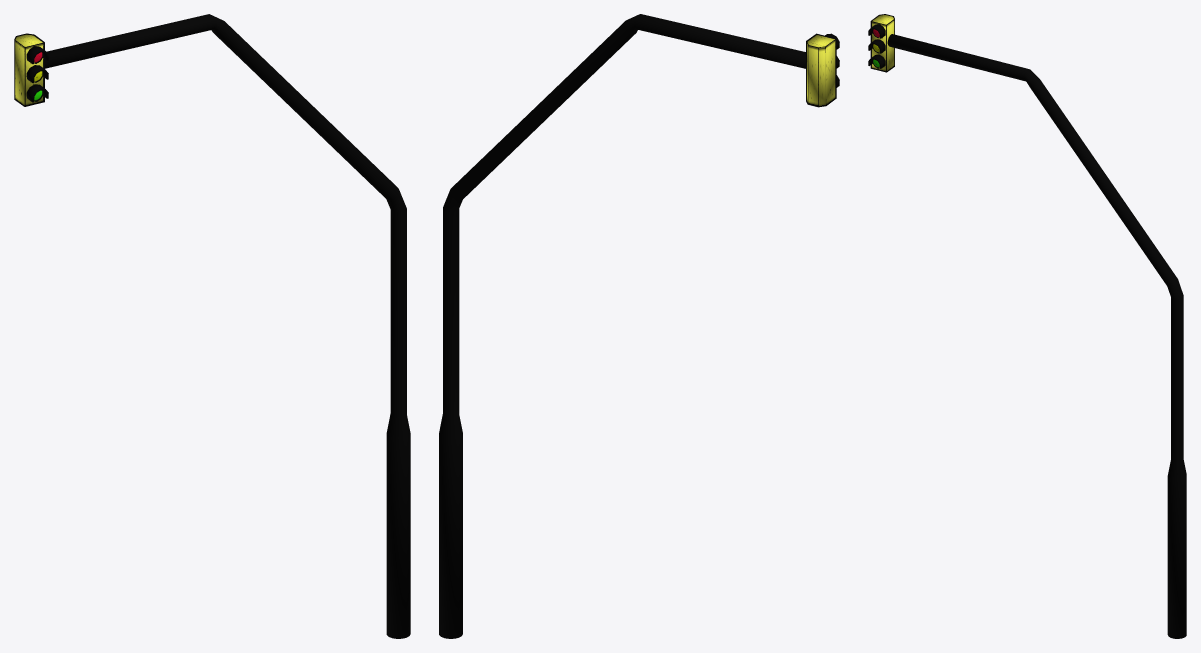
The model's file is traffic_light.obj.
3 renders of one model, left to right at view 1: azimuth 30°, elevation 25°; view 2: azimuth 150°, elevation 25°; view 3: azimuth 330°, elevation 25°, orthographic. The views are drawn at different scales.
Visible parts, largest first — view 1: Cylinder; view 2: Cylinder; view 3: Cylinder.
Part boxes in pixels (x1,y1,x2,y2): Cylinder: [14, 14, 410, 638]; Cylinder: [439, 14, 839, 638]; Cylinder: [868, 14, 1186, 638].
Bounding box in the file's own units: 40.96 × 68.56 × 3.47.
